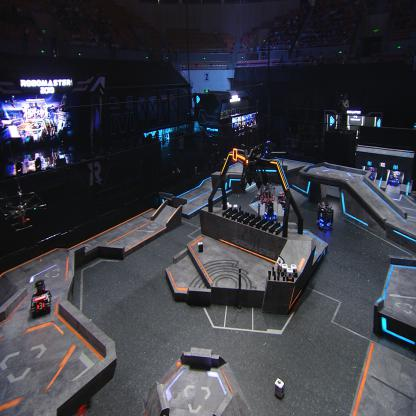car: (29, 278, 52, 318), (315, 201, 335, 231), (260, 179, 276, 204), (262, 201, 278, 224), (277, 189, 290, 211), (365, 165, 375, 180), (390, 172, 400, 187)
